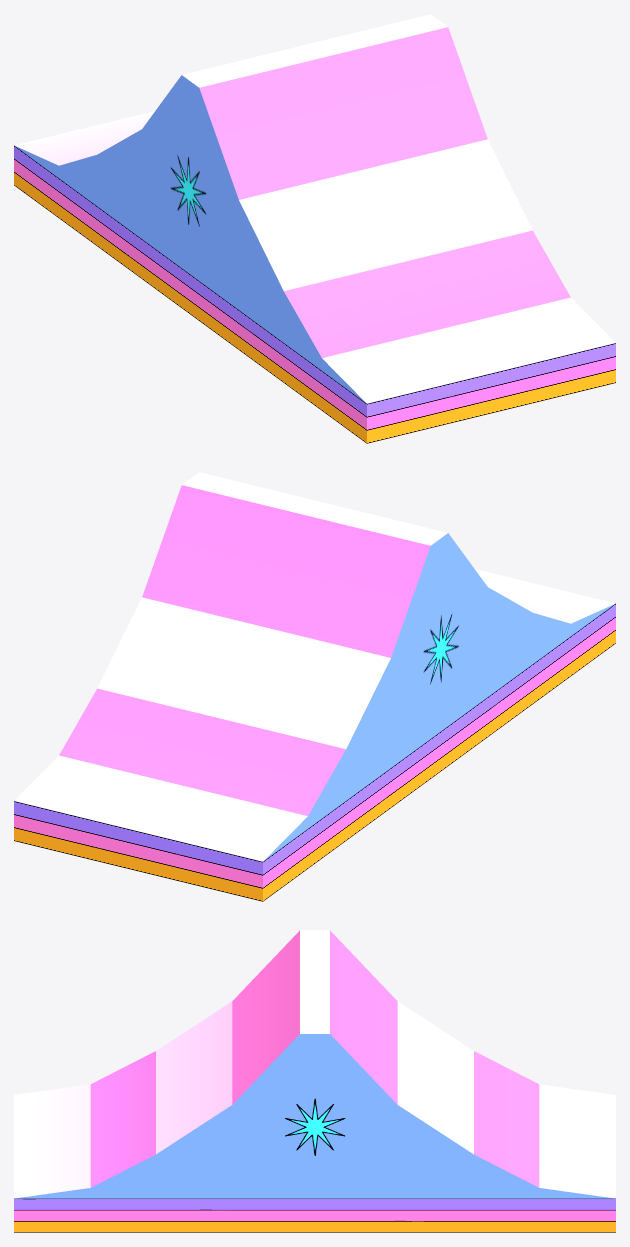
File: cocobay_halframp.gltf
3 renders of one model, top to bottom at view 1: azimuth 30°, elevation 25°; view 2: azimuth 150°, elevation 25°; view 3: azimuth 270°, elevation 25°, orthographic. The views are drawn at different scales.
Parts seen in each view (by area): view 1: cocobay_halframp_glb; view 2: cocobay_halframp_glb; view 3: cocobay_halframp_glb.
Part boxes in pixels (box(x1,y1,x2,y2)): cocobay_halframp_glb: box(14, 14, 615, 443); cocobay_halframp_glb: box(14, 472, 615, 901); cocobay_halframp_glb: box(14, 930, 615, 1232).
Size of what is drawn, in the model's own units: 1.64 by 1.46 by 4.
1 material, 1 textured.
